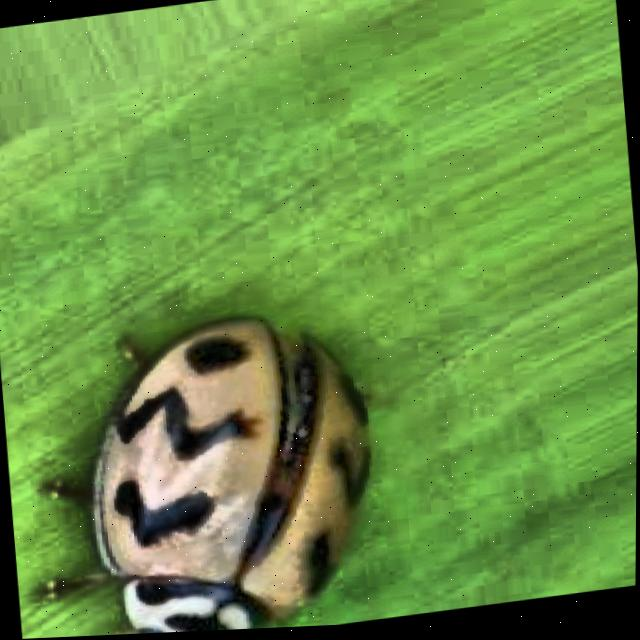Asian-Lady-beetle: (30, 270, 479, 639)
